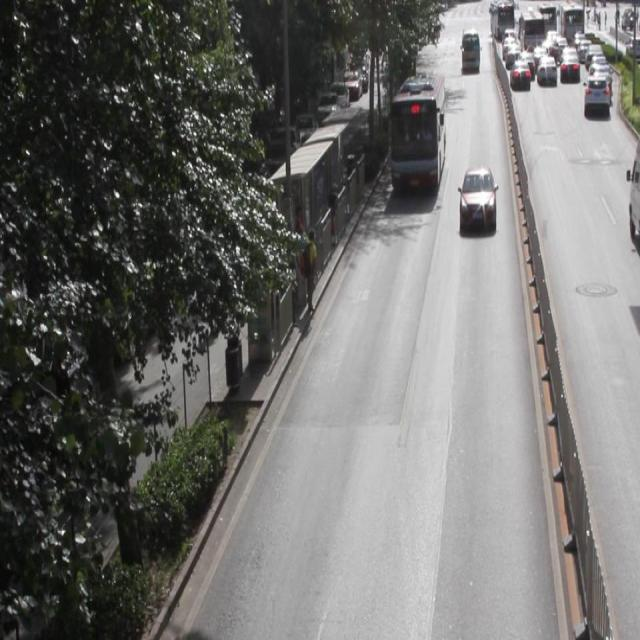car: (458, 168, 493, 227)
van: (389, 74, 445, 190)
